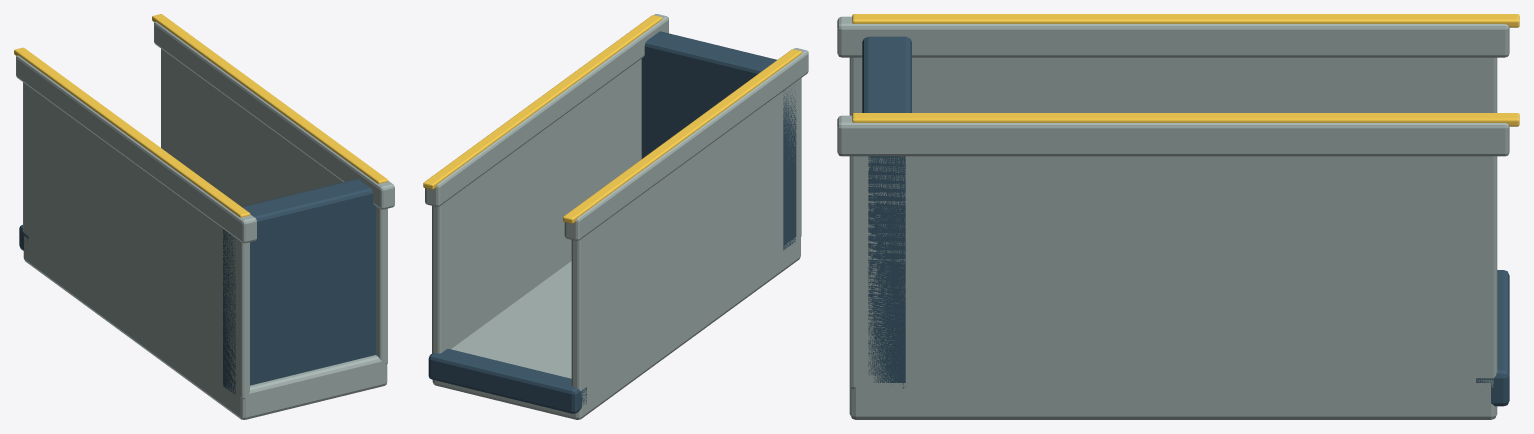
File: SpikePit.fbx
The picture shows the model from 3 angles, left to right: view 1: azimuth 30°, elevation 25°; view 2: azimuth 150°, elevation 25°; view 3: azimuth 270°, elevation 25°; orthographic projection. The views are drawn at different scales.
Visible parts, largest first — view 1: Pit side wall, Pit dark back wall, Pit side wall.001, Pit bottom, Pit edge stone, Pit edge stone.001, Pit warning cap, Pit warning cap.001; view 2: Pit side wall, Pit side wall.001, Pit bottom, Pit dark back wall, Pit edge stone, Pit edge stone.001, Pit front bottom rim, Pit warning cap.001, Pit warning cap; view 3: Pit side wall.001, Pit side wall, Pit bottom, Pit edge stone.001, Pit edge stone, Pit dark back wall, Pit warning cap, Pit warning cap.001, Pit front bottom rim.
Part boxes in pixels (x1,y1,x2,y2): Pit side wall: [23, 82, 249, 399]; Pit dark back wall: [223, 179, 375, 394]; Pit side wall.001: [161, 49, 387, 364]; Pit bottom: [23, 236, 387, 419]; Pit edge stone: [16, 55, 256, 243]; Pit edge stone.001: [154, 21, 394, 209]; Pit warning cap: [14, 47, 250, 217]; Pit warning cap.001: [152, 14, 388, 183]; Pit side wall: [571, 78, 801, 396]; Pit side wall.001: [432, 59, 641, 353]; Pit bottom: [432, 234, 800, 419]; Pit dark back wall: [641, 31, 796, 250]; Pit edge stone: [564, 48, 808, 240]; Pit edge stone.001: [425, 14, 668, 206]; Pit front bottom rim: [428, 349, 586, 413]; Pit warning cap.001: [423, 15, 662, 189]; Pit warning cap: [563, 49, 801, 223]; Pit side wall.001: [849, 156, 1497, 389]; Pit side wall: [849, 57, 1497, 115]; Pit bottom: [849, 383, 1497, 419]; Pit edge stone.001: [837, 115, 1509, 156]; Pit edge stone: [837, 16, 1509, 57]; Pit dark back wall: [862, 36, 911, 388]; Pit warning cap: [852, 14, 1519, 27]; Pit warning cap.001: [852, 113, 1519, 126]; Pit front bottom rim: [1476, 270, 1509, 406].
Size of the model in its own units: 1.04 by 1.34 by 2.74.
